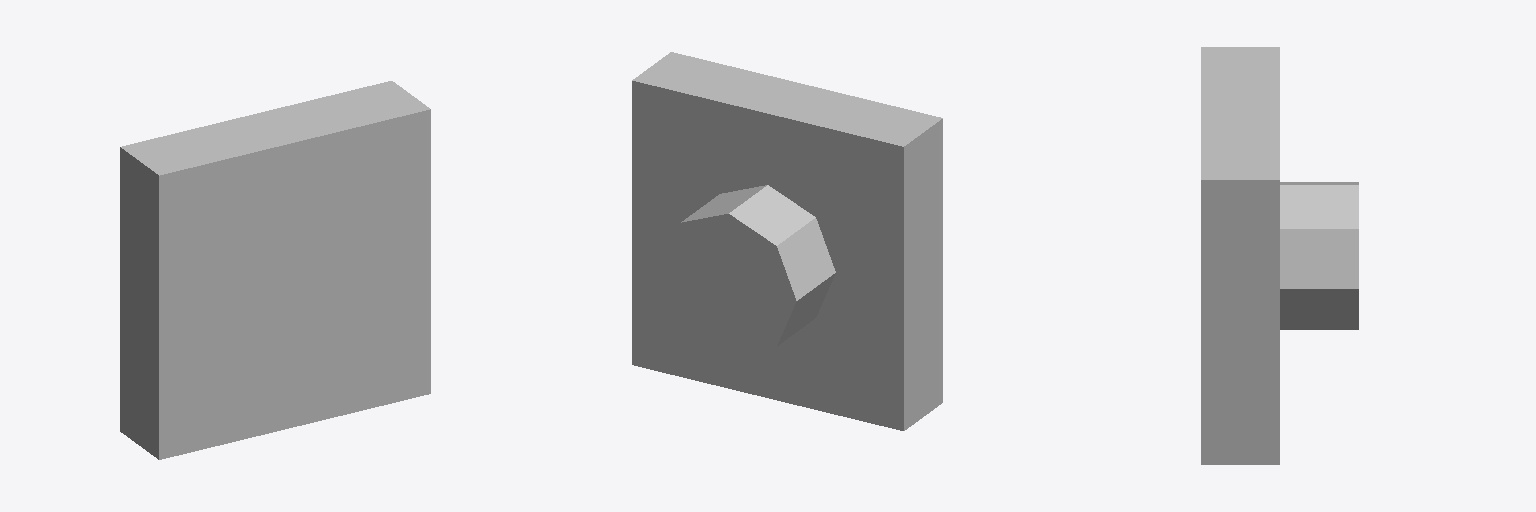
File: Switch.obj
3 renders of one model, left to right at view 1: azimuth 30°, elevation 25°; view 2: azimuth 150°, elevation 25°; view 3: azimuth 270°, elevation 25°, orthographic.
Visible parts, largest first — view 1: Cube; view 2: Cube; view 3: Cube.
Part boxes in pixels (x1,y1,x2,y2): Cube: (120,81,430,459); Cube: (632,52,942,430); Cube: (1201,47,1358,464).
Bounding box in the file's own units: 1 × 1 × 0.5.